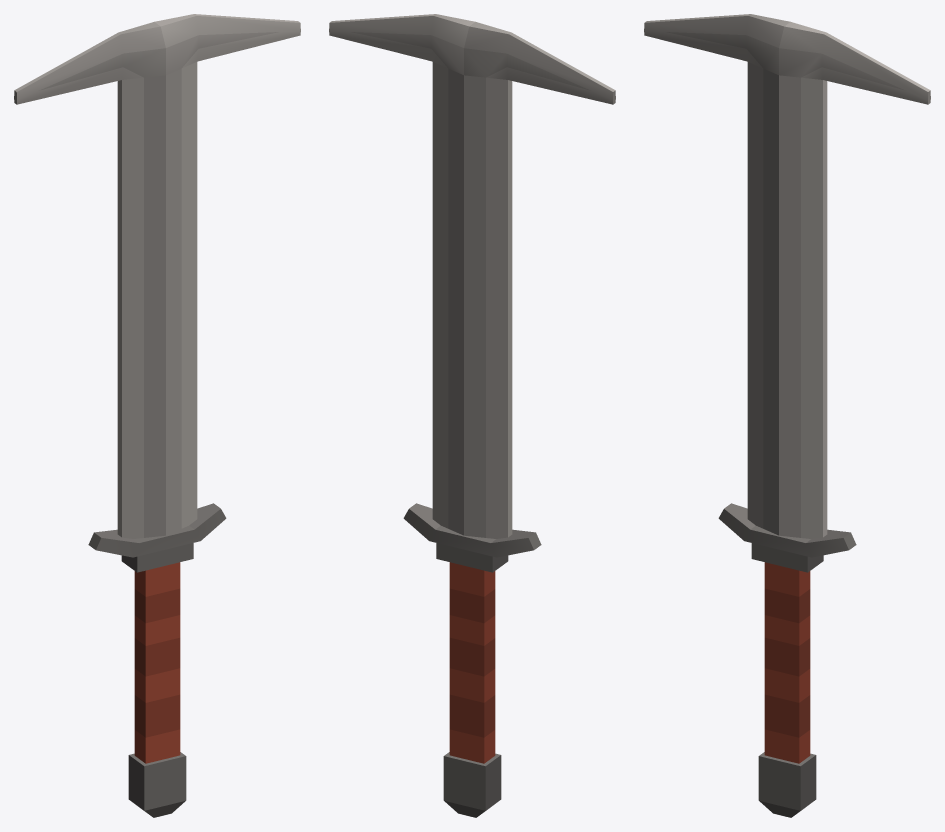
The model's file is SF_Wep_GreatswordHook_01.fbx.
3 renders of one model, left to right at view 1: azimuth 30°, elevation 25°; view 2: azimuth 150°, elevation 25°; view 3: azimuth 330°, elevation 25°, orthographic.
Parts seen in each view (by area): view 1: SF_Wep_GreatswordHook_01; view 2: SF_Wep_GreatswordHook_01; view 3: SF_Wep_GreatswordHook_01.
Boxes of the visible parts, x1,y1,x2,y2 form: SF_Wep_GreatswordHook_01: (14,14,300,817); SF_Wep_GreatswordHook_01: (329,14,615,817); SF_Wep_GreatswordHook_01: (644,14,930,817).
Bounding box in the file's own units: 1.19 × 3.16 × 0.1372.
